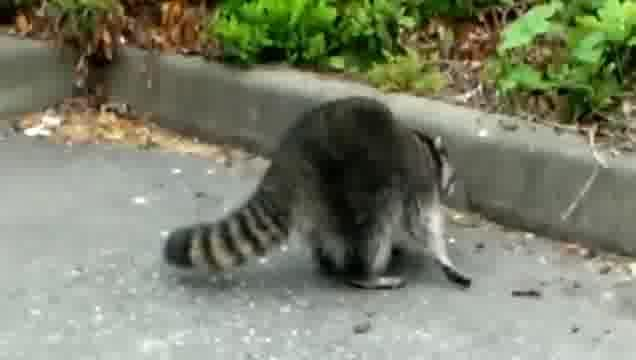raccoon: (156, 94, 475, 296)
